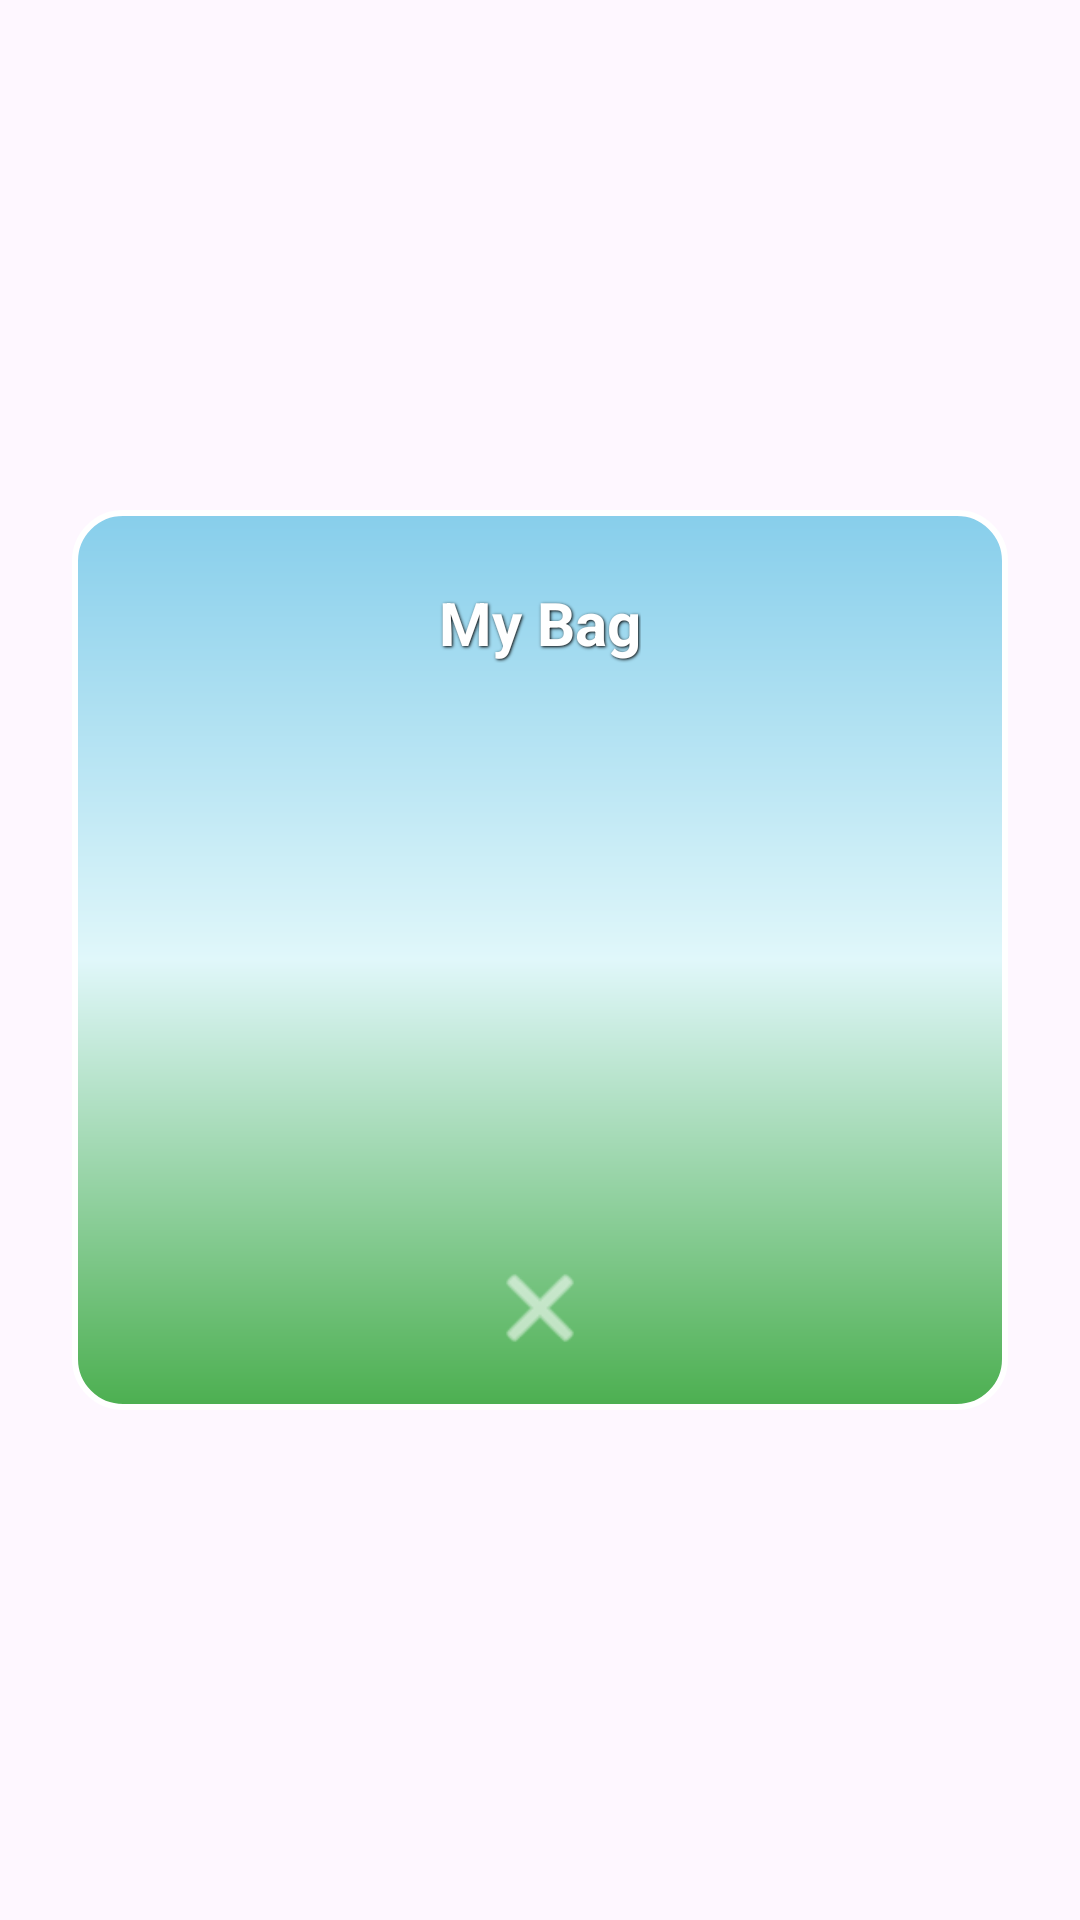

Screen size 1080px x 1920px. Icon name, then its center in pixels as (x,y):
close clear cancel: (540,1308)
